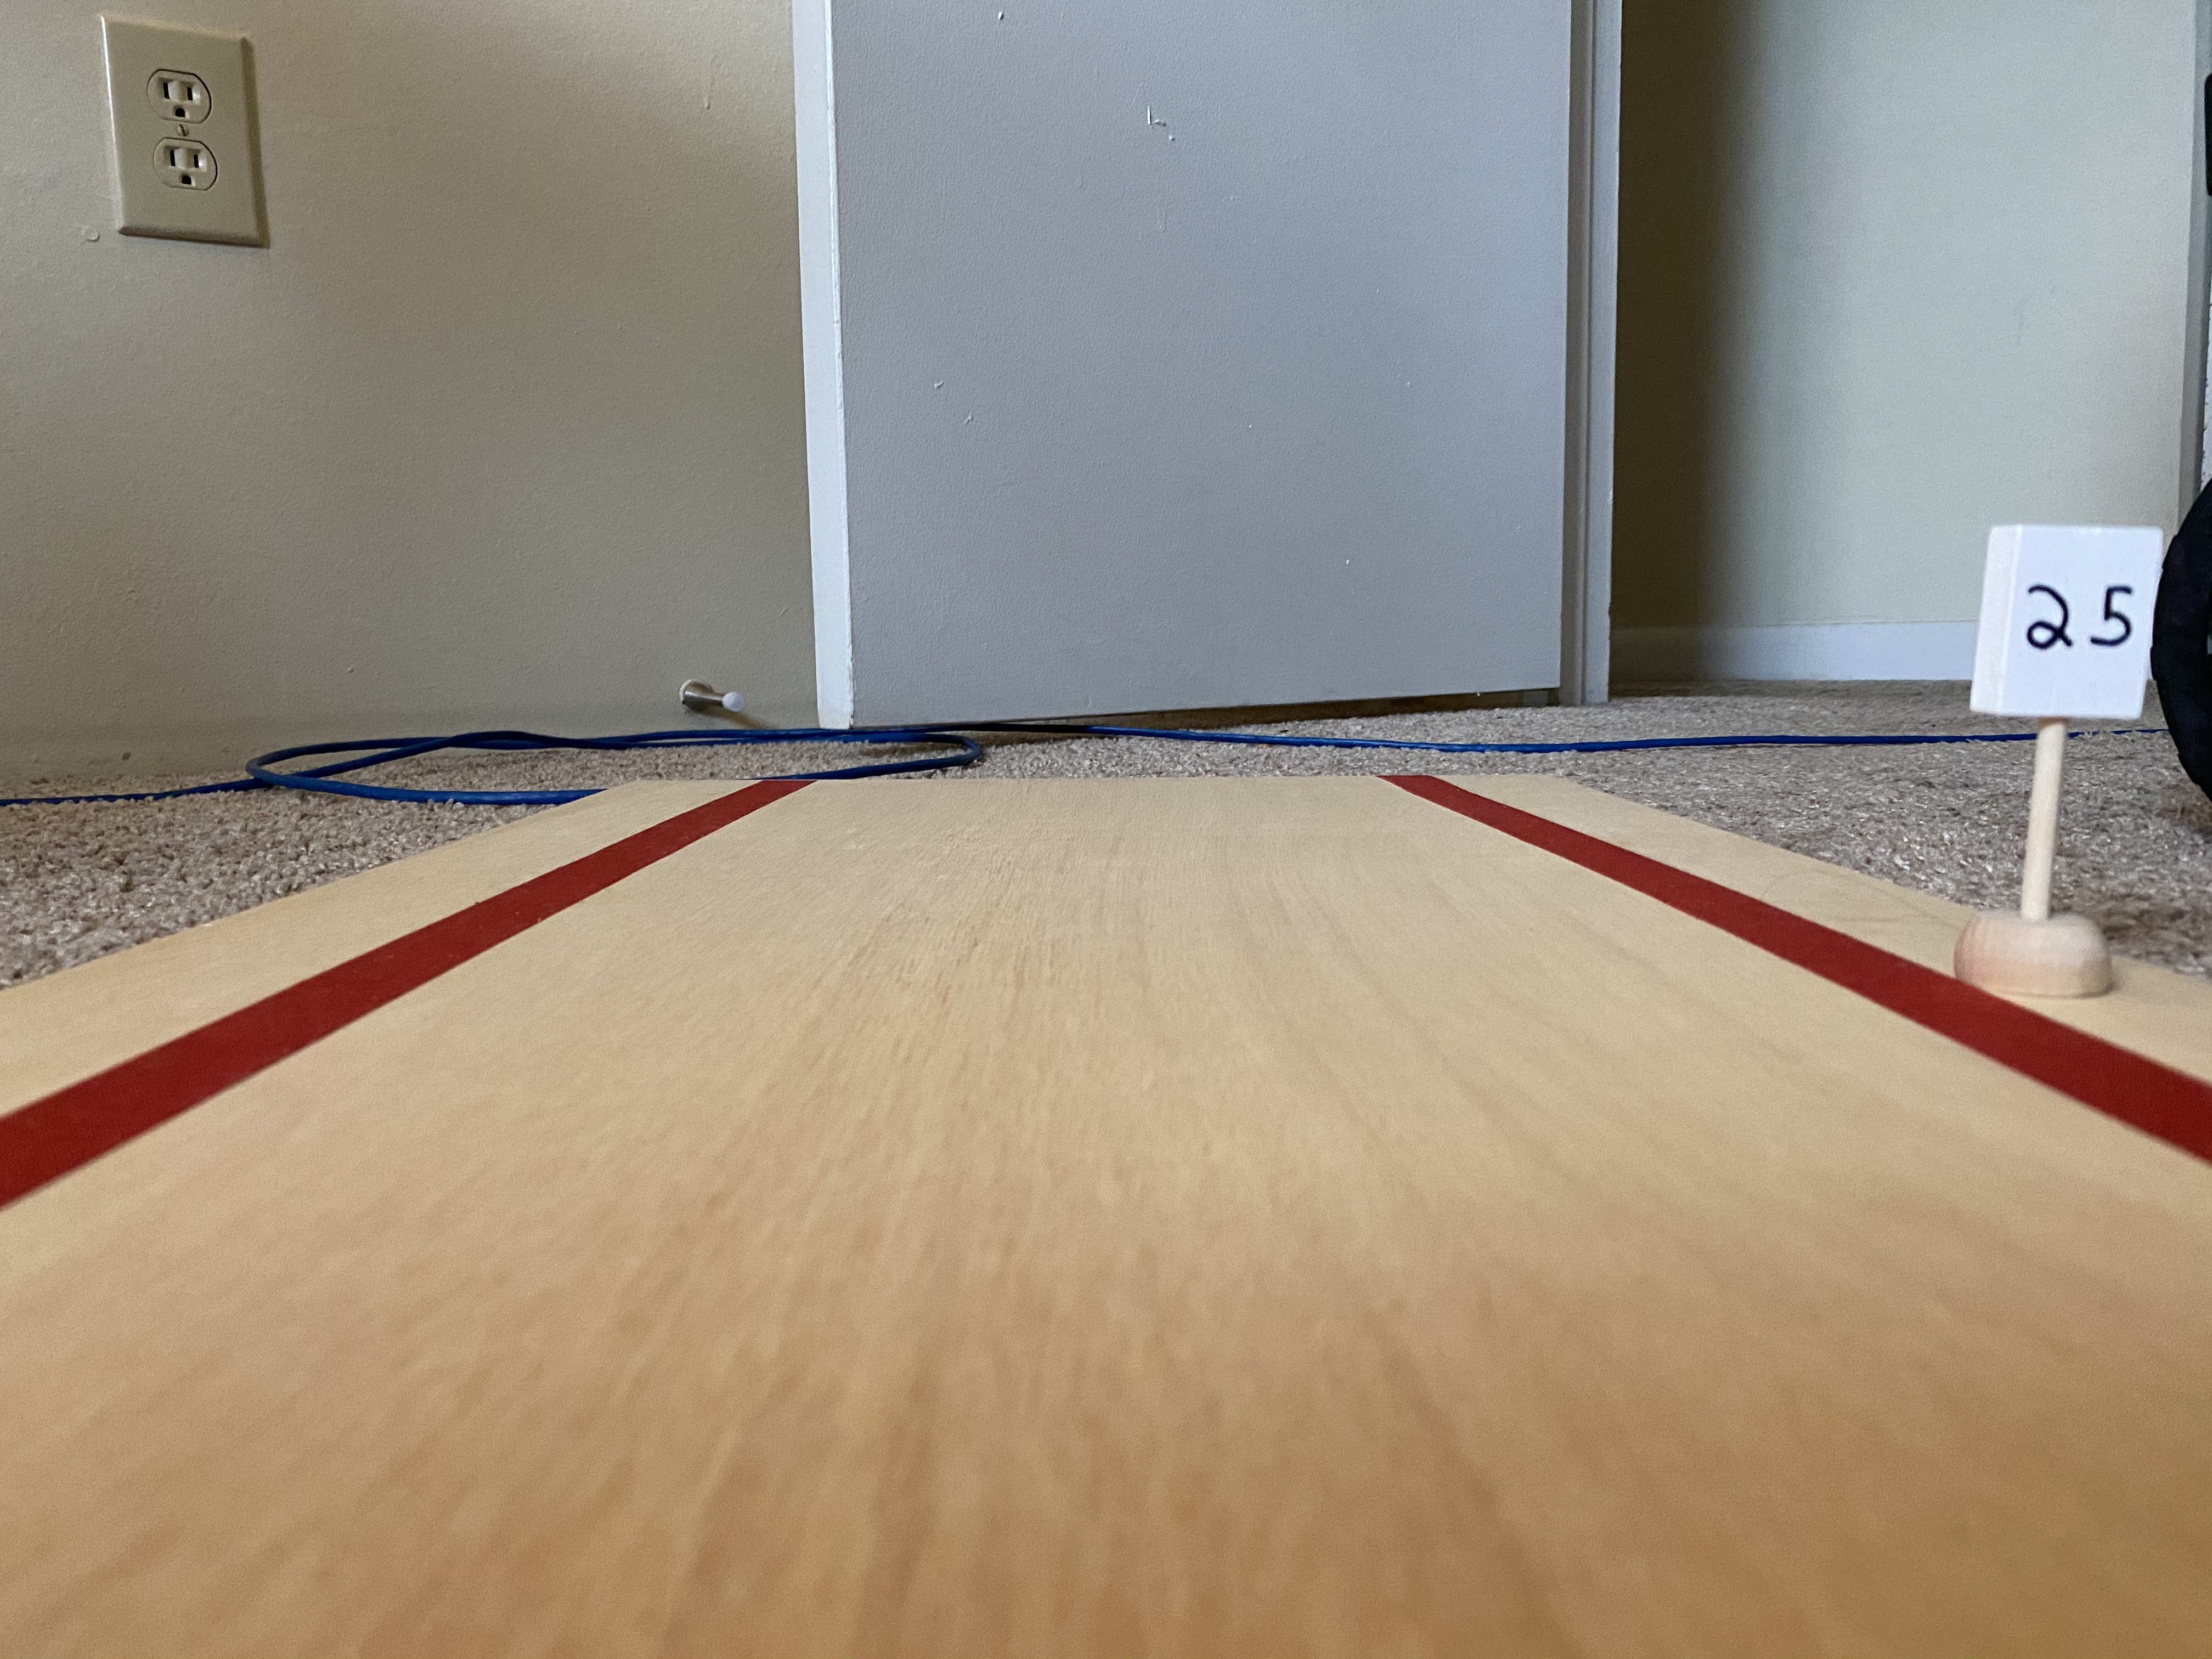Speed Limit 25: (1956, 514, 2172, 737)
